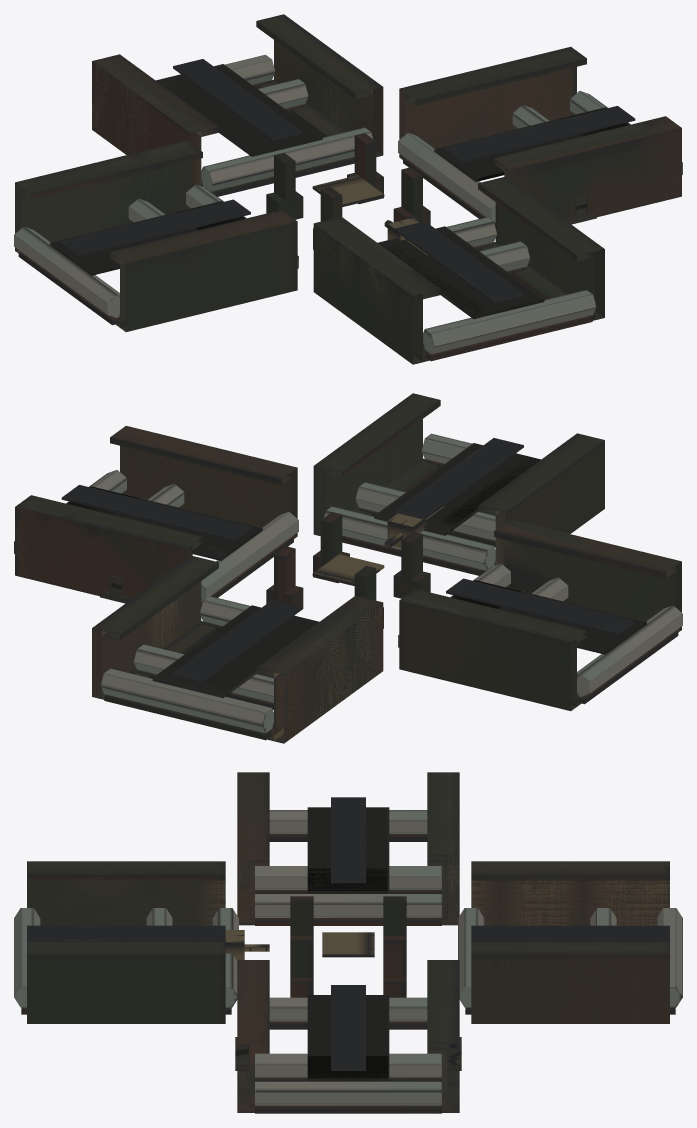
File: place_works_conduit_lane_cross.glb
3 renders of one model, top to bottom at view 1: azimuth 30°, elevation 25°; view 2: azimuth 150°, elevation 25°; view 3: azimuth 270°, elevation 25°, orthographic.
Visible parts, largest first — view 1: LOD0_Merged_Material_Atlas, LOD1_Merged_Material_Atlas, LOD2_Merged_Material_Atlas, LOD0_flow_mesh, LOD1_flow_mesh; view 2: LOD0_Merged_Material_Atlas, LOD1_Merged_Material_Atlas, LOD2_Merged_Material_Atlas, LOD0_flow_mesh, LOD1_flow_mesh; view 3: LOD0_Merged_Material_Atlas, LOD1_Merged_Material_Atlas, LOD2_Merged_Material_Atlas, LOD0_flow_mesh, LOD1_flow_mesh.
Boxes of the visible parts, left/top/right/bottom form: LOD0_Merged_Material_Atlas: left=14, top=14, right=682, bottom=364; LOD1_Merged_Material_Atlas: left=15, top=14, right=681, bottom=363; LOD2_Merged_Material_Atlas: left=15, top=41, right=602, bottom=362; LOD0_flow_mesh: left=50, top=64, right=629, bottom=319; LOD1_flow_mesh: left=50, top=65, right=628, bottom=318; LOD0_Merged_Material_Atlas: left=14, top=393, right=682, bottom=743; LOD1_Merged_Material_Atlas: left=15, top=393, right=681, bottom=743; LOD2_Merged_Material_Atlas: left=15, top=419, right=680, bottom=742; LOD0_flow_mesh: left=67, top=443, right=646, bottom=698; LOD1_flow_mesh: left=68, top=443, right=646, bottom=697; LOD0_Merged_Material_Atlas: left=14, top=772, right=682, bottom=1113; LOD1_Merged_Material_Atlas: left=27, top=772, right=669, bottom=1112; LOD2_Merged_Material_Atlas: left=27, top=772, right=669, bottom=1112; LOD0_flow_mesh: left=307, top=807, right=389, bottom=1081; LOD1_flow_mesh: left=307, top=807, right=389, bottom=1081.
Bounding box in the file's own units: 2.28 × 0.26 × 2.29.
Materials: 1 (1 with a texture image).
